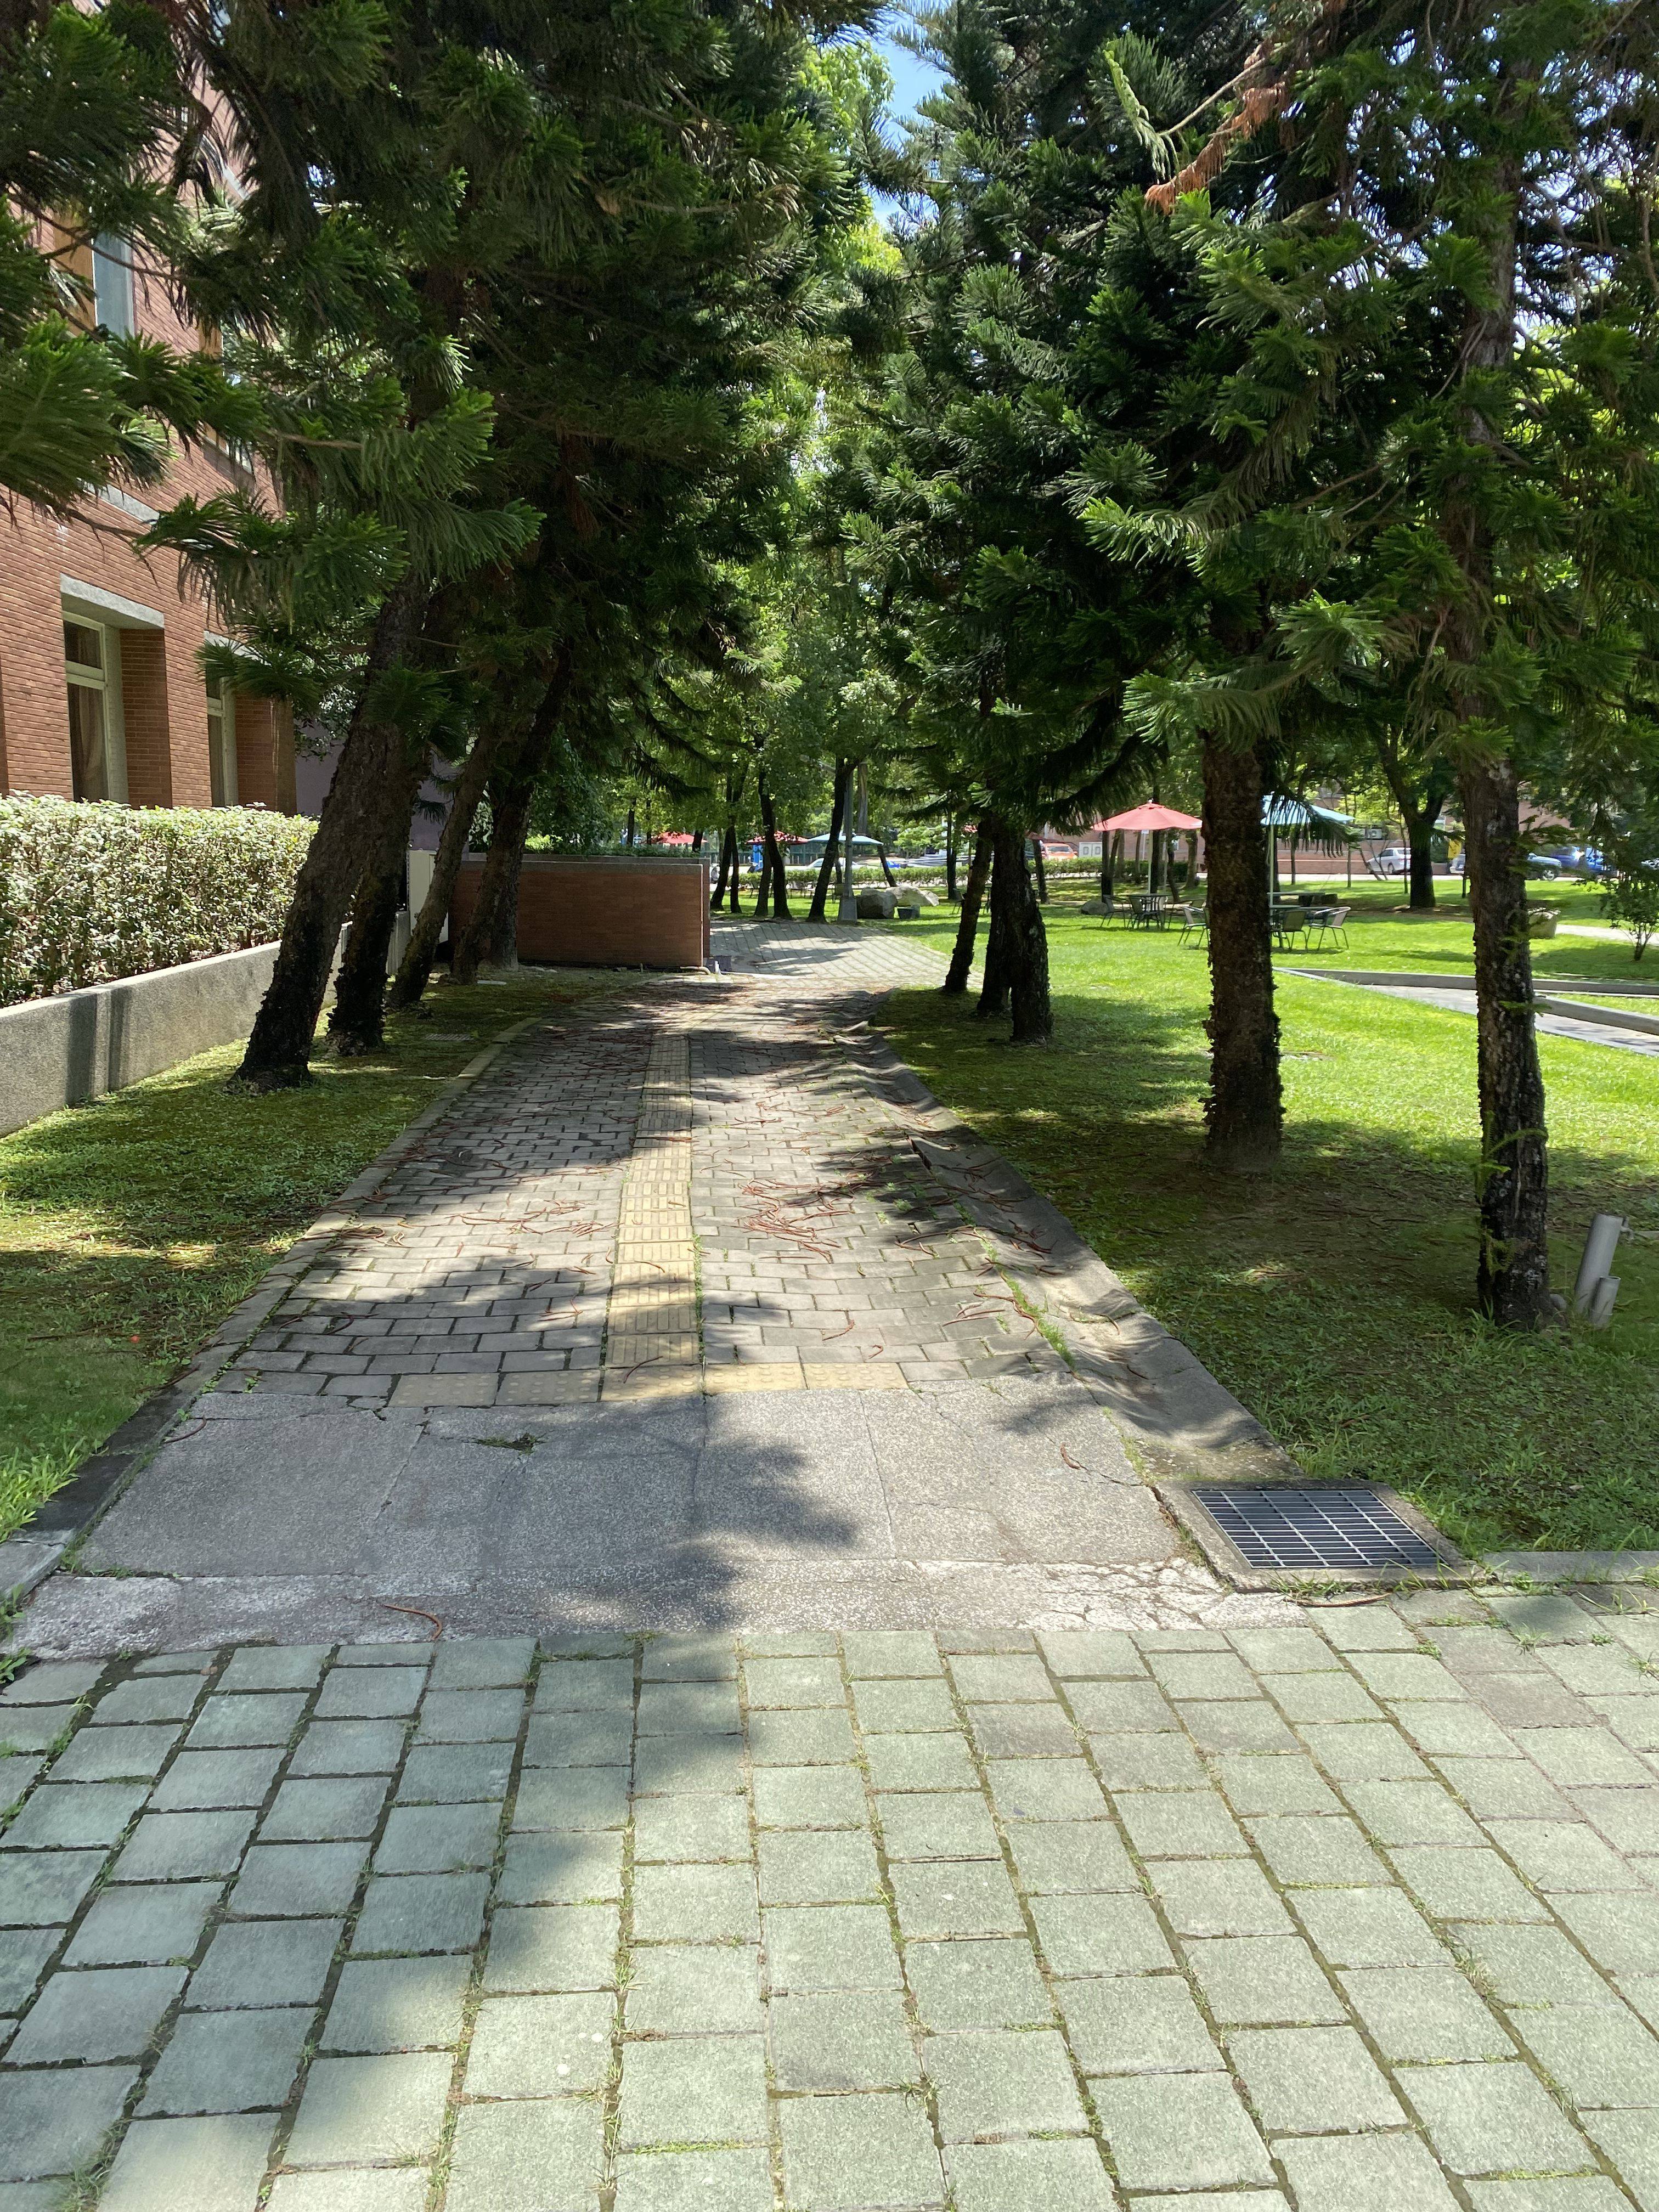0: (17, 1486, 1659, 2212)
sidewalk: (66, 824, 1333, 1759)
